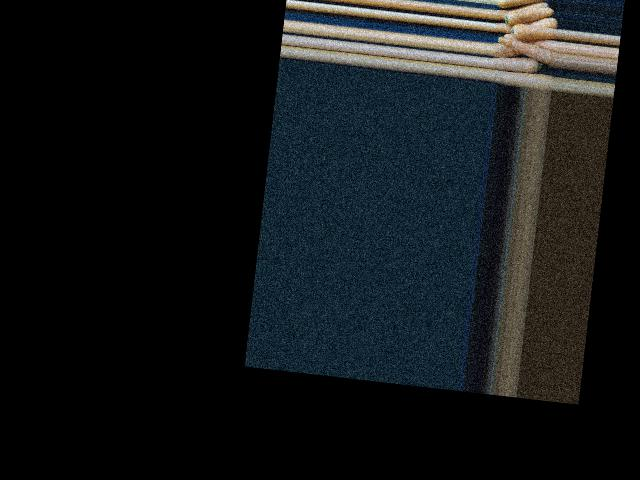carrot: (487, 68, 551, 89)
